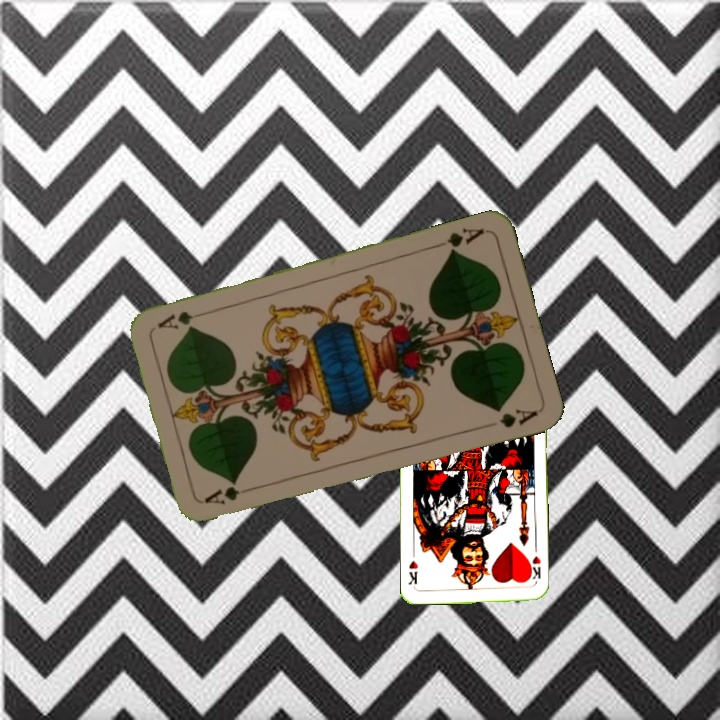GA: (431, 224, 487, 257), (200, 482, 259, 508)
HK: (524, 552, 543, 587)
